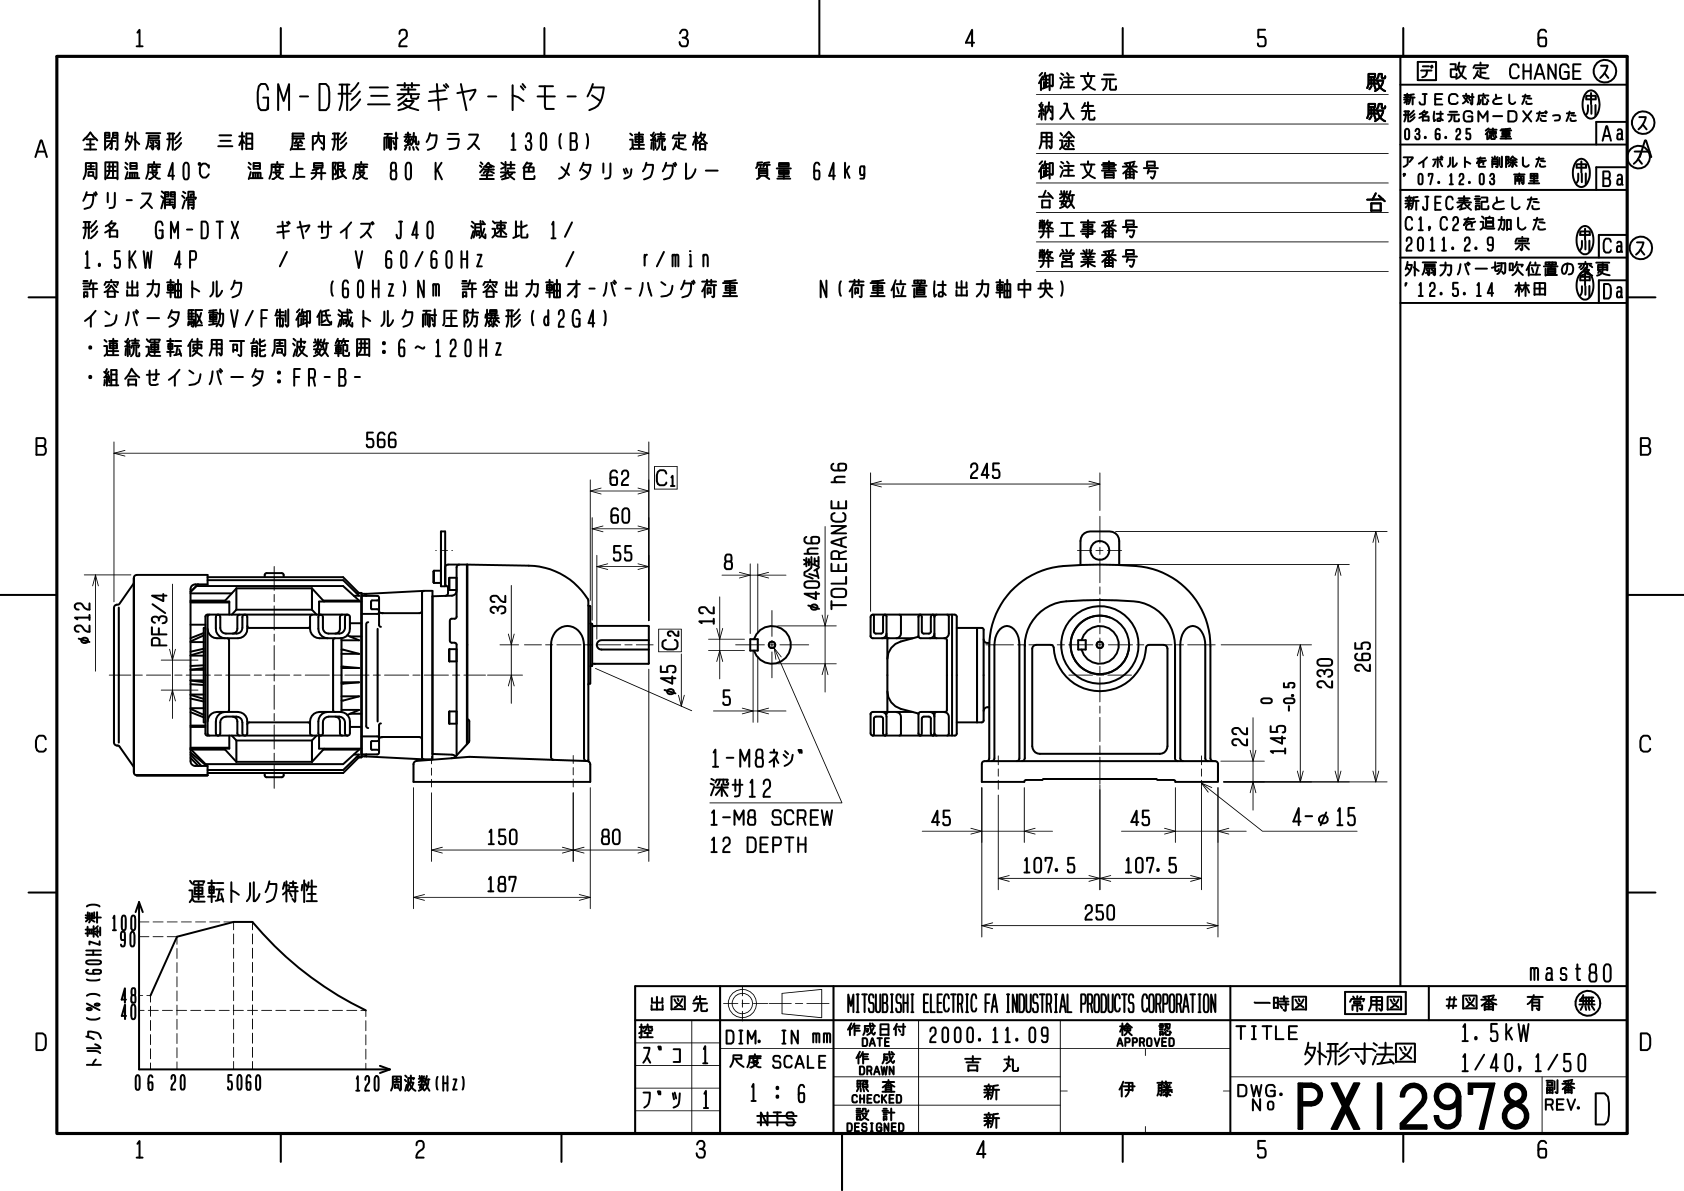GM_D_VF制御屋内_三相_脚: (64, 402, 1393, 982)
